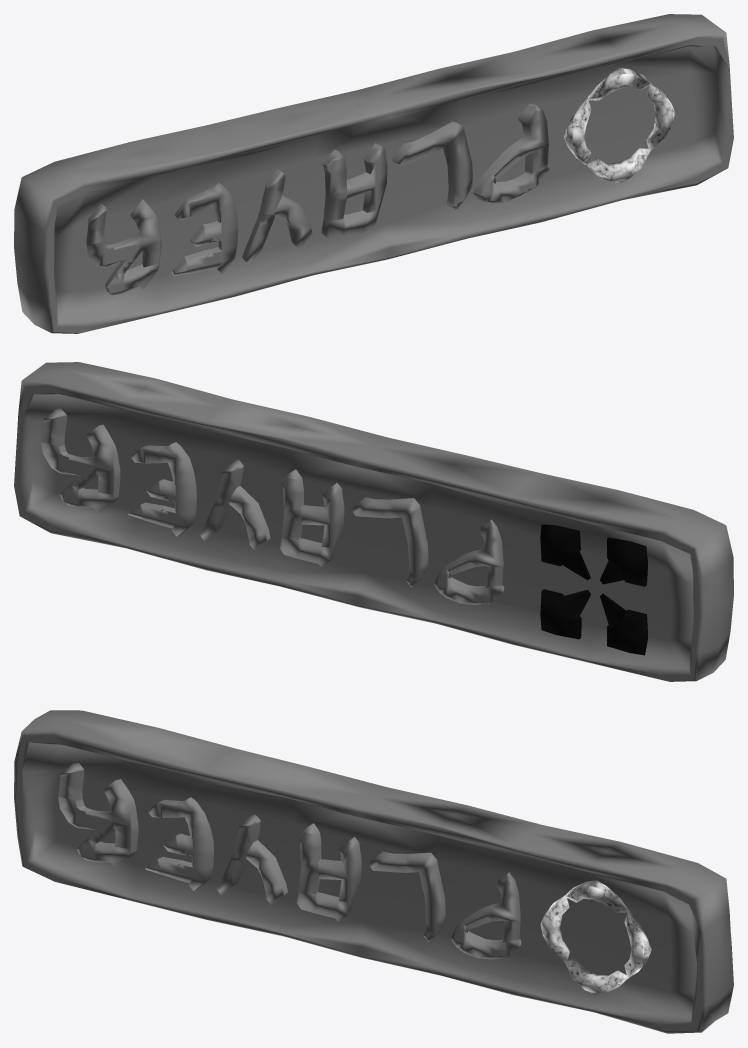
File: turn_indicator.obj
The picture shows the model from 3 angles, top to bottom: view 1: azimuth 30°, elevation 25°; view 2: azimuth 150°, elevation 25°; view 3: azimuth 330°, elevation 25°; orthographic projection.
Parts seen in each view (by area): view 1: o_face, background, o_player, O_playerTurnIndicator:Default O_playerTurnIndicator:polySurface2; view 2: x_face, background, x_player, x_arrow_2, x_arrow_3, x_arrow_1, x_arrow_4; view 3: o_face, background, o_player, O_playerTurnIndicator:Default O_playerTurnIndicator:polySurface2.
Boxes of the visible parts, x1,y1,x2,y2 form: o_face: (54,47,718,320); background: (14,14,733,333); o_player: (86,103,549,295); O_playerTurnIndicator:Default O_playerTurnIndicator:polySurface2: (564,68,675,182); x_face: (29,395,693,668); background: (14,362,733,681); x_player: (41,408,504,604); x_arrow_2: (540,589,590,639); x_arrow_3: (600,593,647,655); x_arrow_1: (600,537,647,586); x_arrow_4: (540,524,590,580); o_face: (24,742,696,1018); background: (14,710,733,1033); o_player: (58,762,521,959); O_playerTurnIndicator:Default O_playerTurnIndicator:polySurface2: (540,880,651,994).
Size of the model in its own units: 55 by 12.03 by 4.56.
3 materials, 1 textured.
